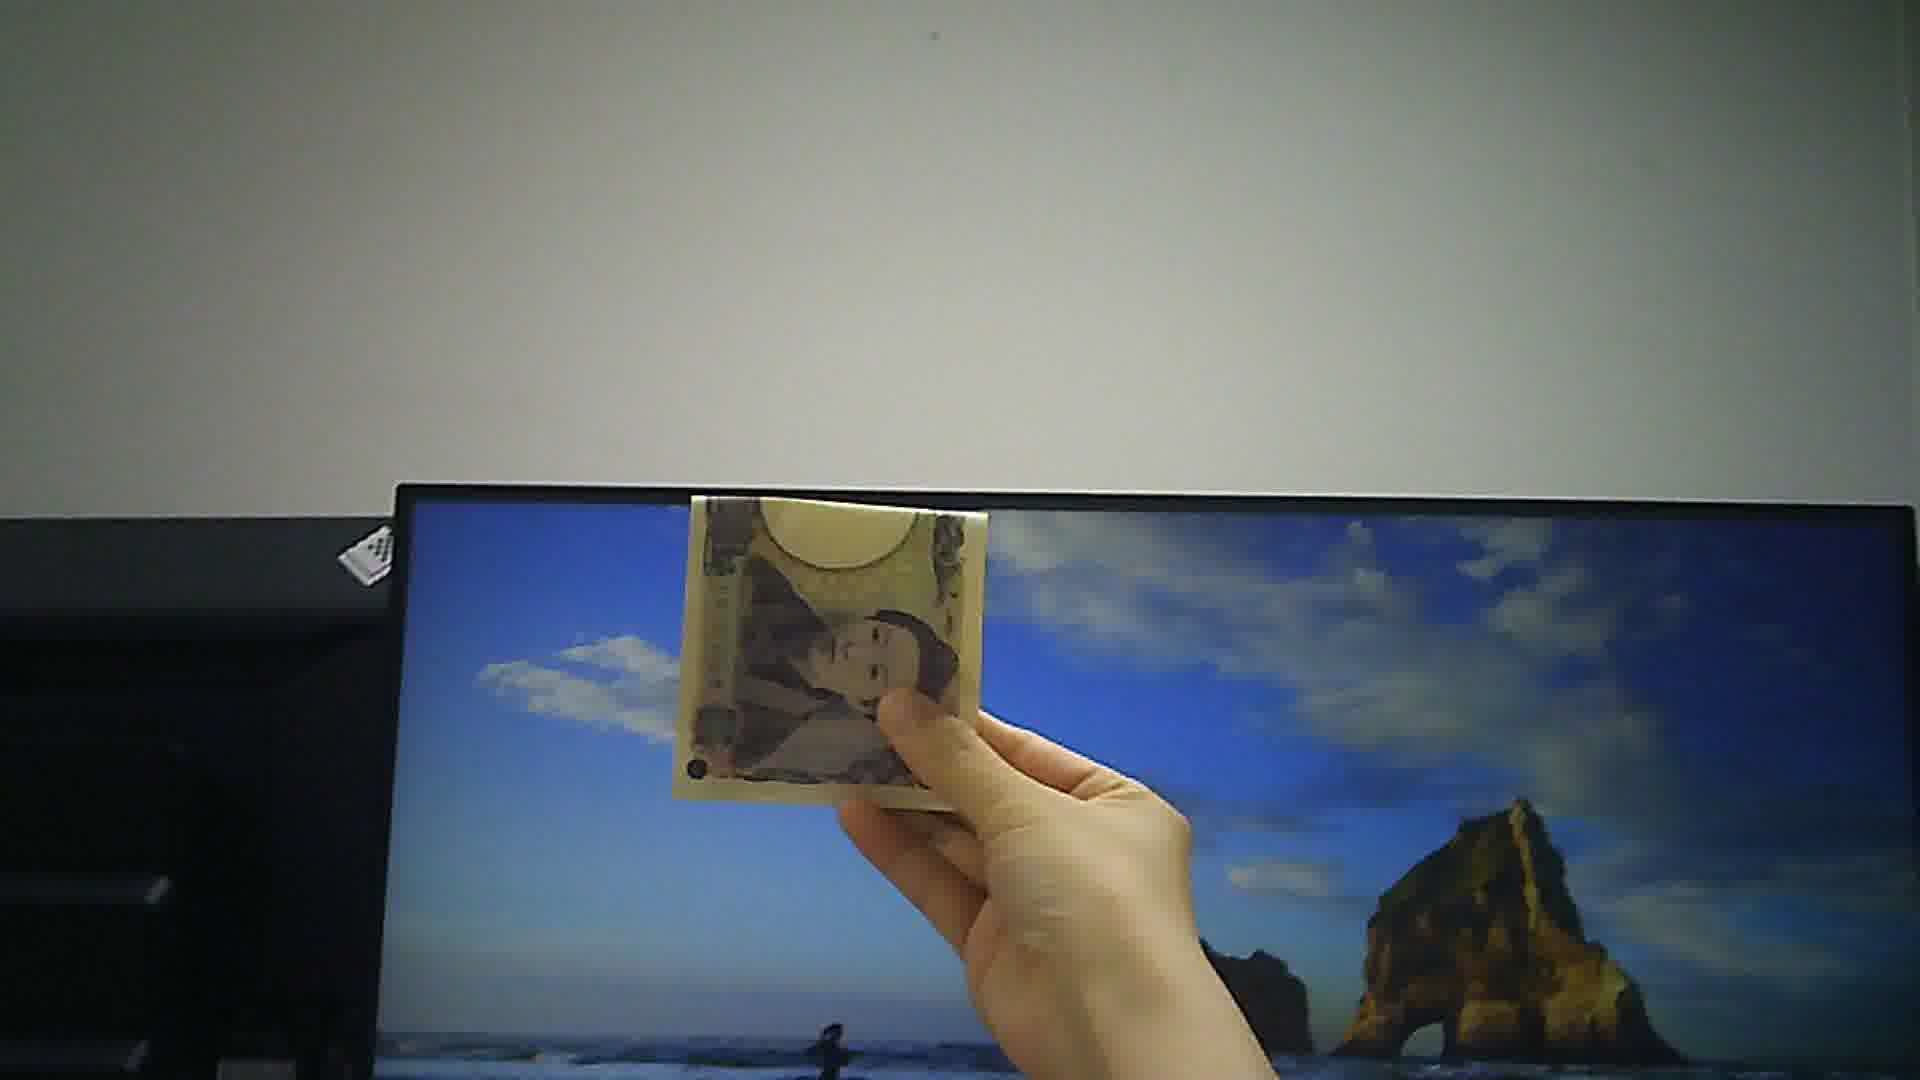5,000 Yen: (670, 487, 997, 822)
